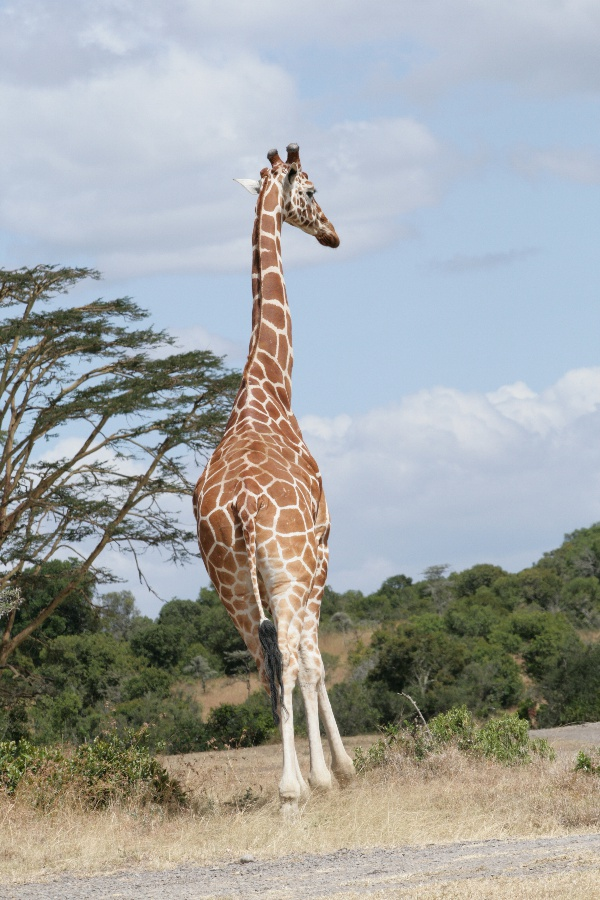giraffe: (175, 132, 384, 825)
